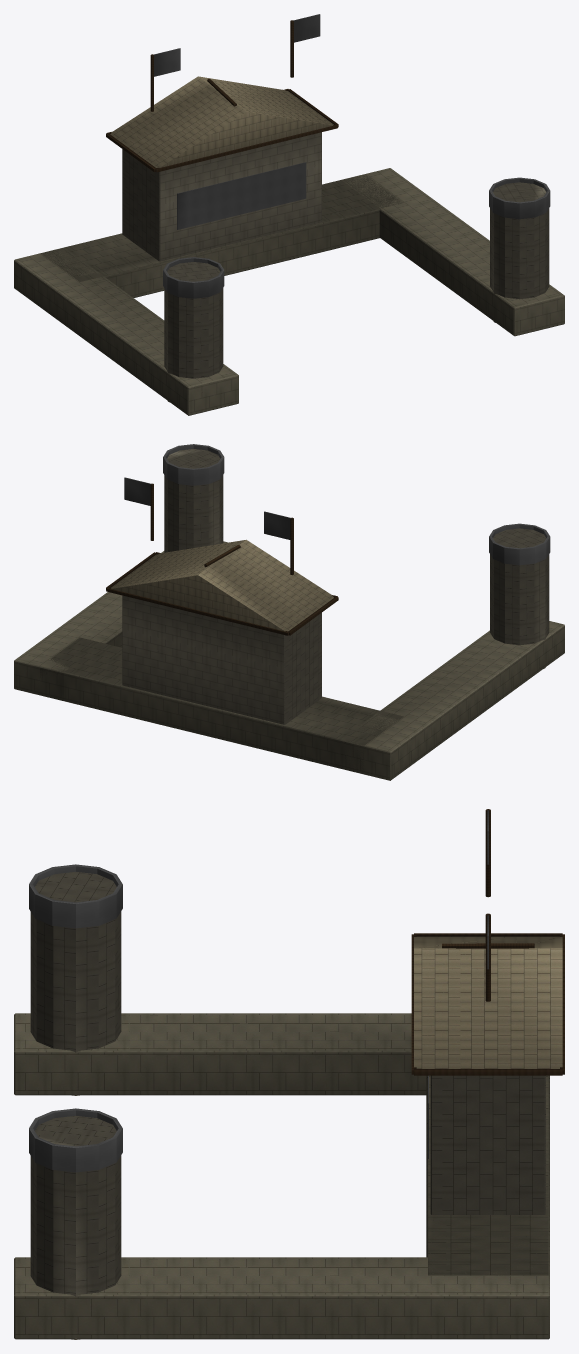
File: harbor-israelite.glb
3 views of the same model, one above another, from view 1: azimuth 30°, elevation 25°; view 2: azimuth 150°, elevation 25°; view 3: azimuth 270°, elevation 25° (orthographic). The views are drawn at different scales.
Visible parts, largest first — view 1: LOD0; view 2: LOD0; view 3: LOD0.
Boxes of the visible parts, box(x1,y1,x2,y2) form: LOD0: box(14, 14, 564, 415); LOD0: box(14, 444, 564, 780); LOD0: box(14, 809, 564, 1339).
Size of what is drawn, in the model's own units: 1.63 by 0.9 by 1.34.
Materials: 2 (2 with a texture image).
